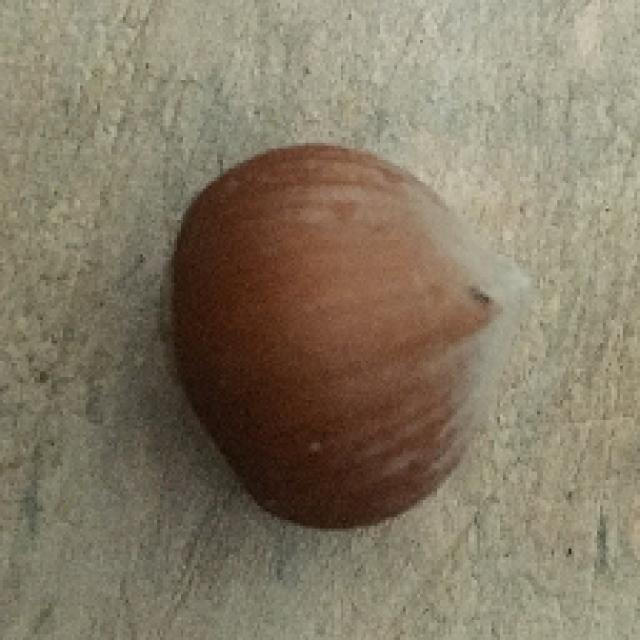qualityHazelnut: (148, 141, 518, 538)
